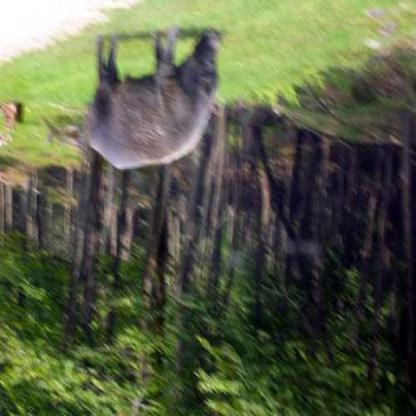boar: (80, 26, 226, 170)
